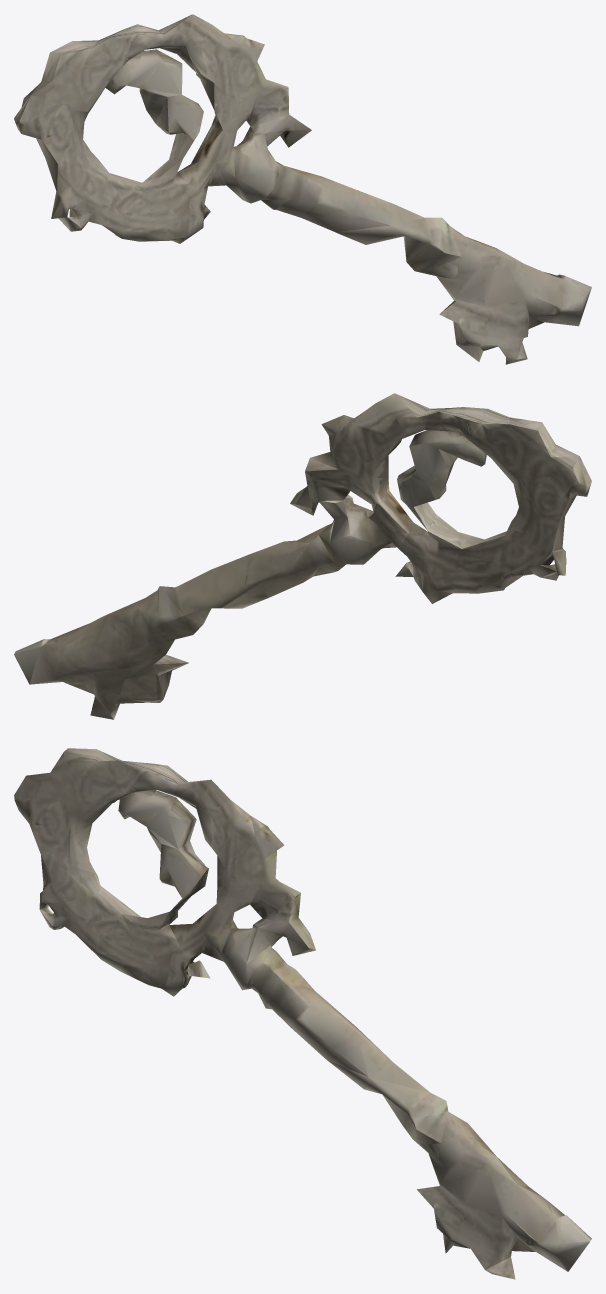
The picture shows the model from 3 angles, top to bottom: view 1: azimuth 30°, elevation 25°; view 2: azimuth 150°, elevation 25°; view 3: azimuth 330°, elevation 25°; orthographic projection.
Visible parts, largest first — view 1: Quest key silver; view 2: Quest key silver; view 3: Quest key silver.
Boxes of the visible parts, x1=… form: Quest key silver: x1=14, y1=14, x2=591, y2=364; Quest key silver: x1=14, y1=393, x2=591, y2=719; Quest key silver: x1=14, y1=748, x2=591, y2=1279.
Size of the model in its own units: 1.96 by 1.35 by 0.1988.
1 material, 1 textured.
